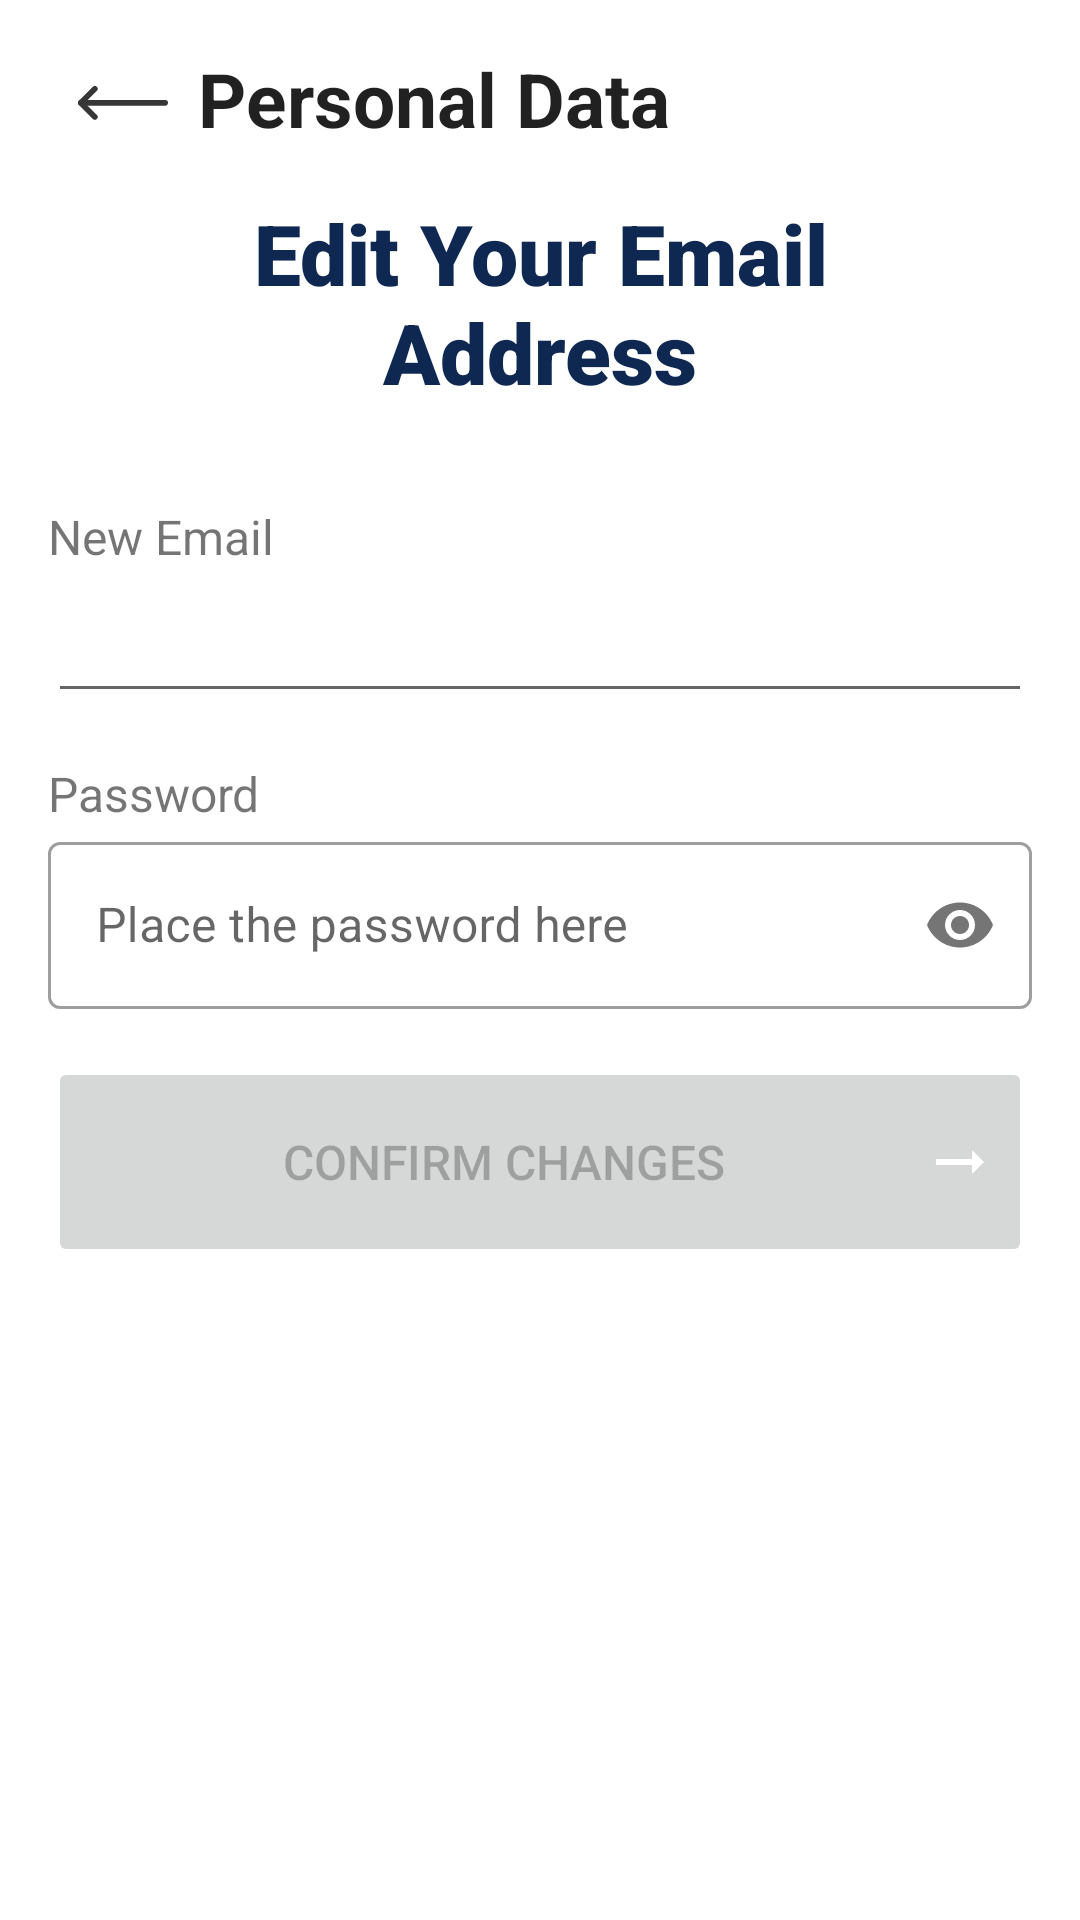

Named icons in this screenshot (1080*1920) and their bounding boxes, (x1, y1, x2, y2):
back arrow: (78, 86, 168, 120)
